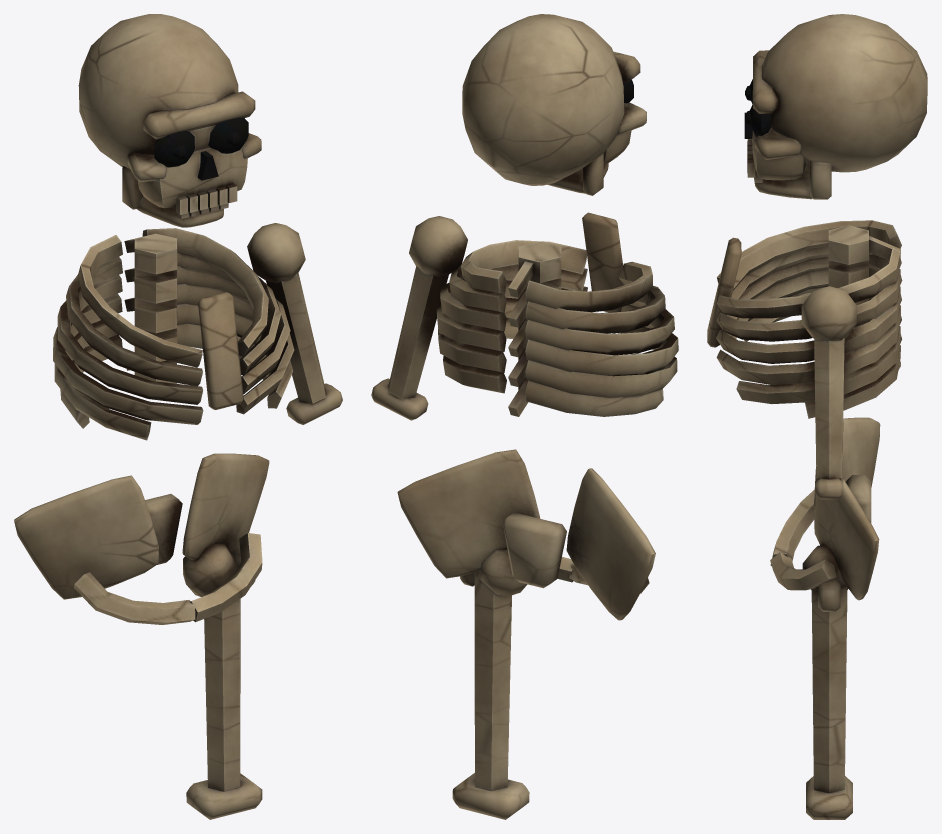
File: skeleton_parts.glb
3 views of the same model, side by side, from view 1: azimuth 30°, elevation 25°; view 2: azimuth 150°, elevation 25°; view 3: azimuth 270°, elevation 25° (orthographic). The views are drawn at different scales.
Parts seen in each view (by area): view 1: ribcage, skull, pelvis, leg_bone, arm_bone; view 2: ribcage, skull, pelvis, leg_bone, arm_bone; view 3: ribcage, skull, pelvis, leg_bone, arm_bone.
Part boxes in pixels (bbox=[...]): ribcage: bbox=[53, 228, 294, 440]; skull: bbox=[78, 14, 261, 227]; pelvis: bbox=[14, 453, 269, 624]; leg_bone: bbox=[183, 543, 262, 819]; arm_bone: bbox=[247, 223, 342, 424]; ribcage: bbox=[436, 212, 678, 416]; skull: bbox=[462, 14, 646, 195]; pelvis: bbox=[397, 449, 655, 620]; leg_bone: bbox=[452, 549, 529, 819]; arm_bone: bbox=[371, 216, 467, 420]; ribcage: bbox=[707, 220, 902, 418]; skull: bbox=[744, 14, 927, 199]; pelvis: bbox=[770, 417, 880, 600]; leg_bone: bbox=[802, 545, 852, 819]; arm_bone: bbox=[801, 286, 856, 499].
Bounding box in the file's own units: 0.5126 × 1.3 × 0.341.
1 material, 1 textured.
